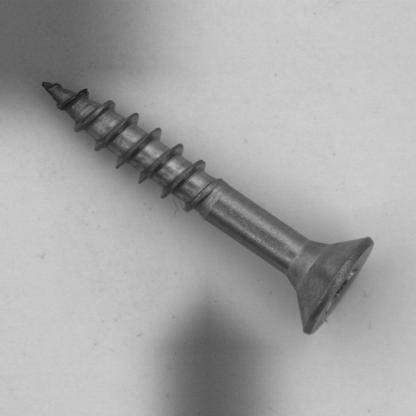metal: (40, 79, 374, 334)
